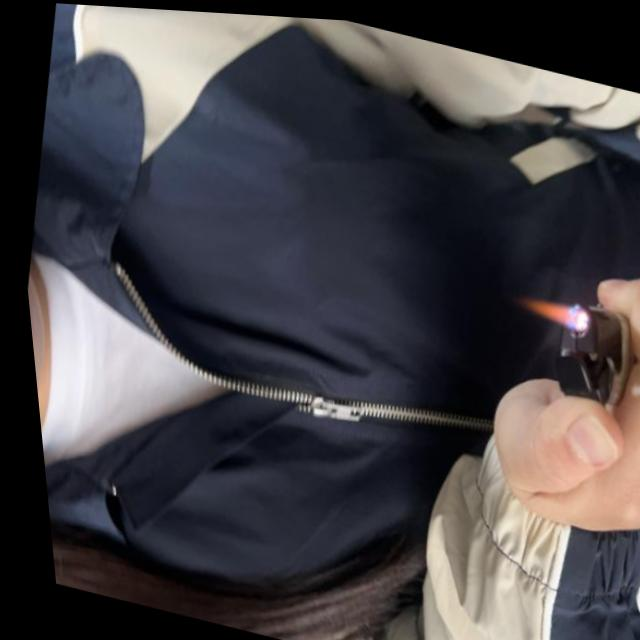Fire: (512, 285, 589, 324)
